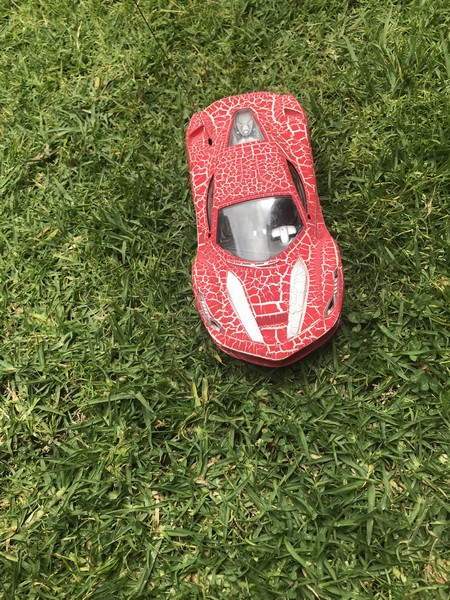RC: (183, 89, 343, 372)
